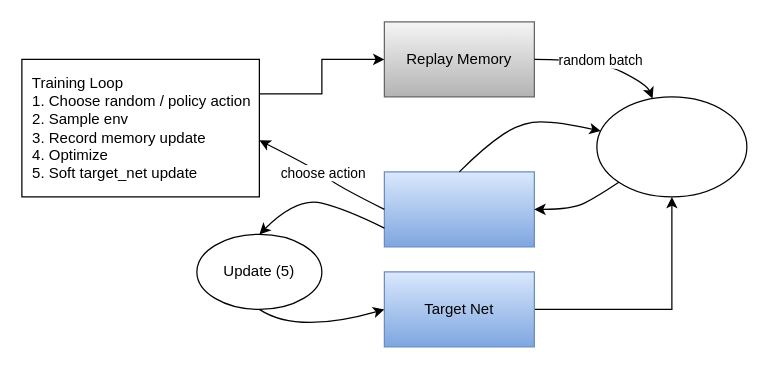
Some shapes in this 769 by 369 pixel diagram are drawn without their labels. The shapes that lost their labels are listed below. From the top down, each one's centre as x and y in pixels, then its label:
(x=671, y=146): Optimize (4)
(x=458, y=209): Policy Net
